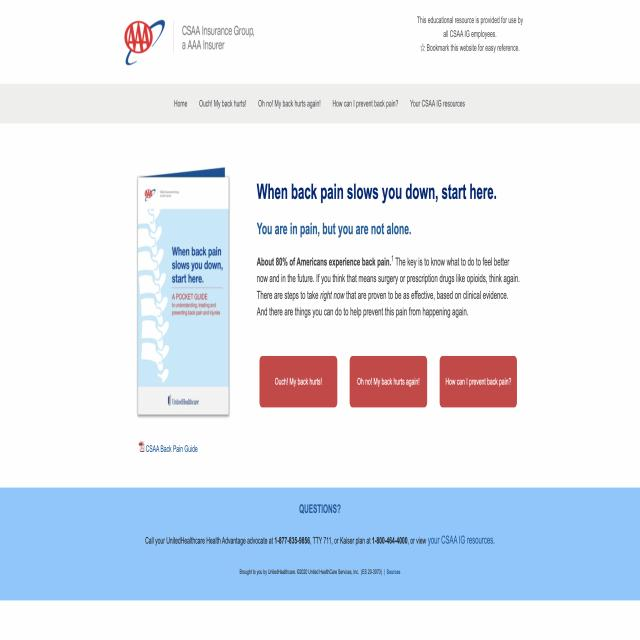Logo: (116, 9, 170, 77)
Navigation: (169, 88, 476, 109)
